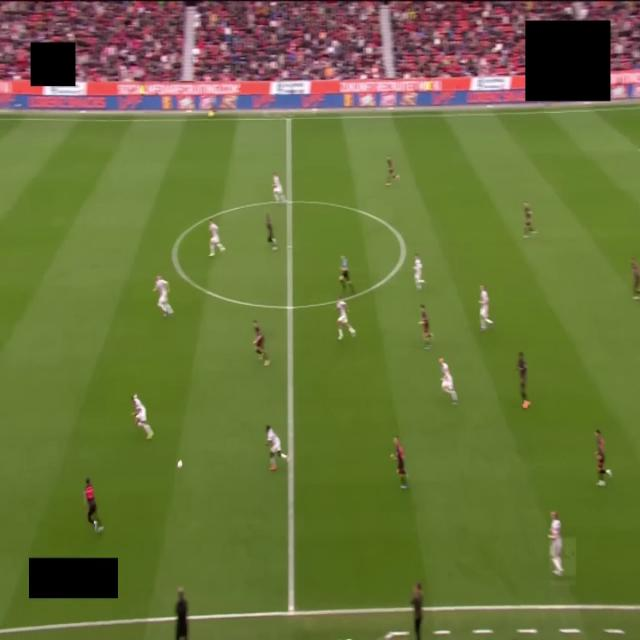ball: (177, 461, 182, 468)
player: (84, 478, 103, 533), (266, 425, 288, 471), (595, 430, 612, 486), (548, 512, 563, 575), (132, 395, 153, 439), (391, 437, 408, 489), (439, 358, 457, 404), (153, 276, 173, 316), (517, 352, 530, 409), (337, 299, 355, 340), (253, 320, 269, 366), (479, 286, 493, 331), (419, 304, 432, 350), (209, 220, 224, 256), (524, 203, 536, 238), (386, 155, 399, 186), (266, 215, 277, 250), (273, 173, 285, 203), (414, 254, 424, 290), (631, 258, 639, 300)
referee: (339, 256, 354, 293)
